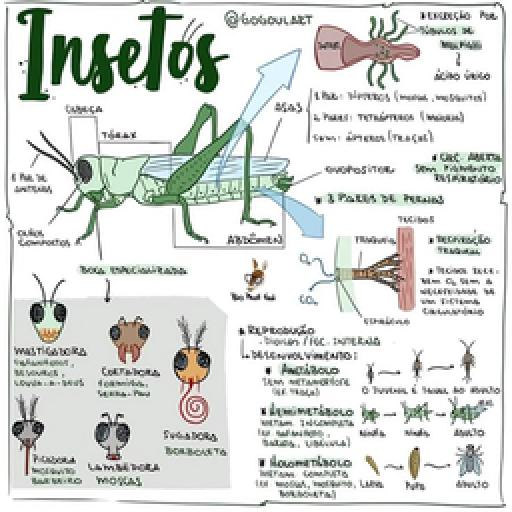insects: (28, 102, 296, 248), (169, 317, 215, 423), (10, 388, 48, 474), (30, 274, 66, 344), (91, 411, 138, 461), (107, 317, 152, 363), (436, 342, 482, 382), (446, 393, 484, 431), (453, 441, 488, 479)
